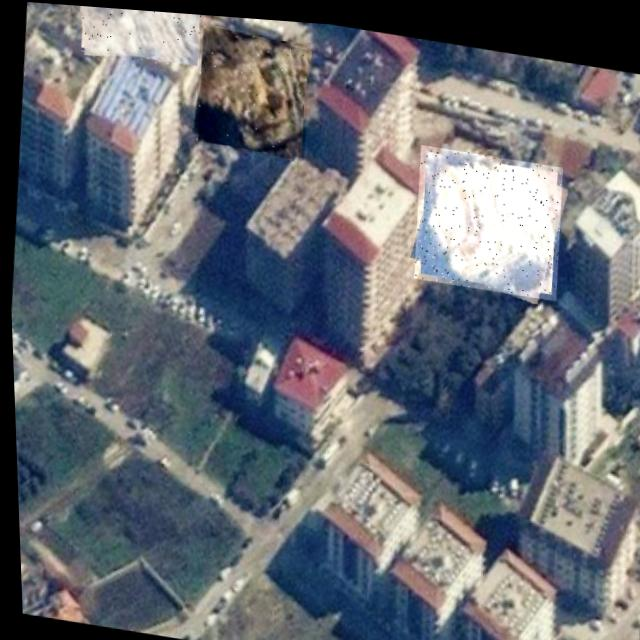Rubble: (408, 137, 566, 293), (189, 22, 313, 156), (78, 5, 203, 67)
